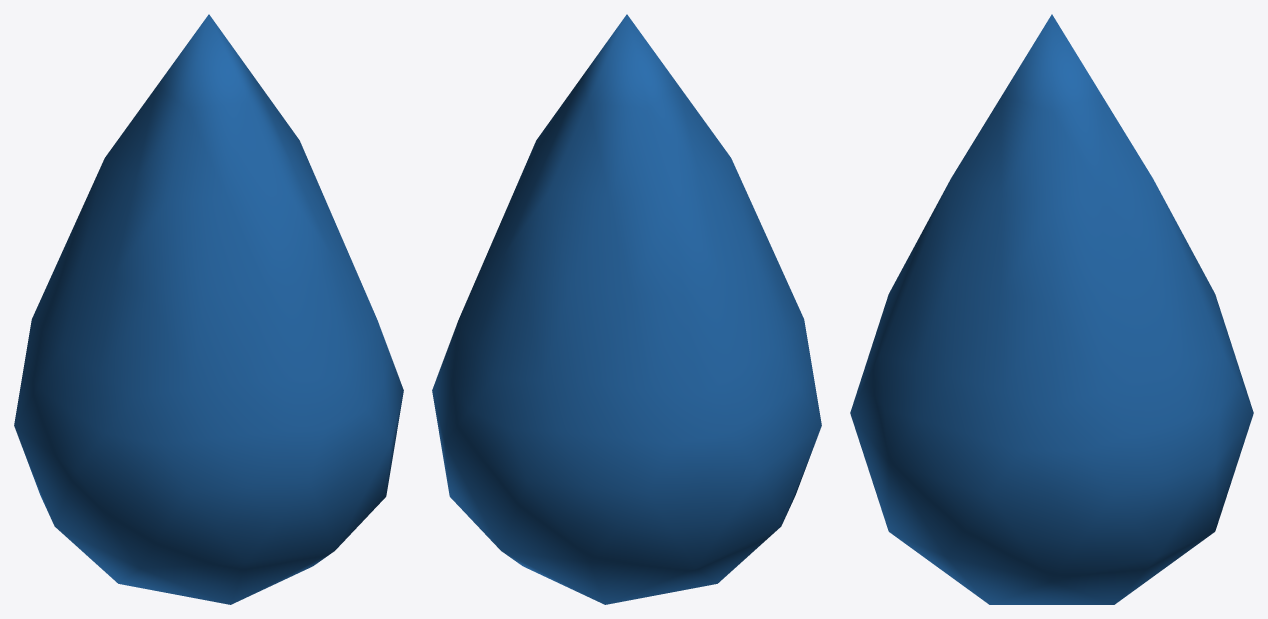
3 renders of one model, left to right at view 1: azimuth 30°, elevation 25°; view 2: azimuth 150°, elevation 25°; view 3: azimuth 270°, elevation 25°, orthographic.
Visible parts, largest first — view 1: Icosphere; view 2: Icosphere; view 3: Icosphere.
Boxes of the visible parts, x1,y1,x2,y2 form: Icosphere: [14, 14, 403, 604]; Icosphere: [432, 14, 821, 604]; Icosphere: [850, 14, 1253, 604].
Bounding box in the file's own units: 190 × 318 × 200.
